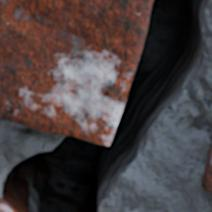brick: (0, 0, 151, 144), (202, 146, 211, 191)
broken_brick: (0, 200, 15, 211)
crack: (0, 0, 209, 211)
